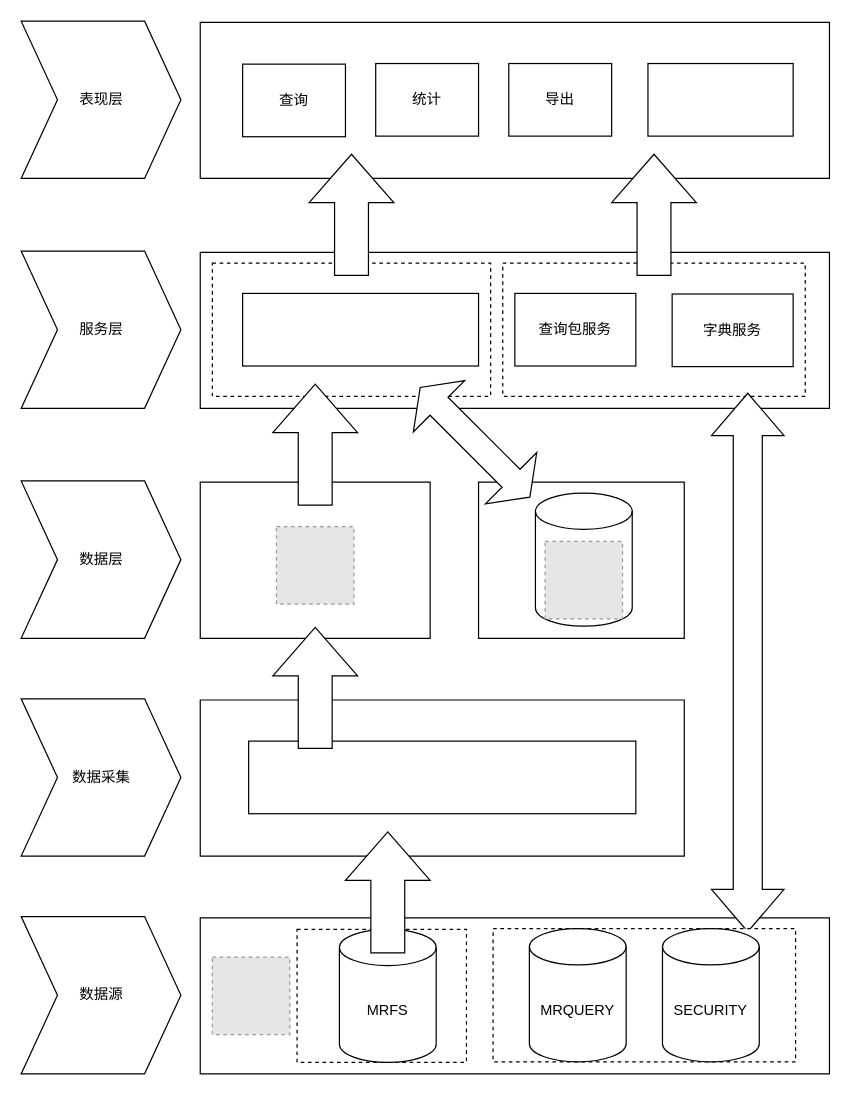
Image size: 851x1095. Some labels were removed from this diagram. Grey dashed boxes stand in for pictures. Here are the shapes that lost their labels. From the top down, the box of each, then its label:
(647, 62, 793, 136): 查询包管理
(241, 292, 479, 366): 检索服务
(247, 740, 636, 814): 数据同步器
